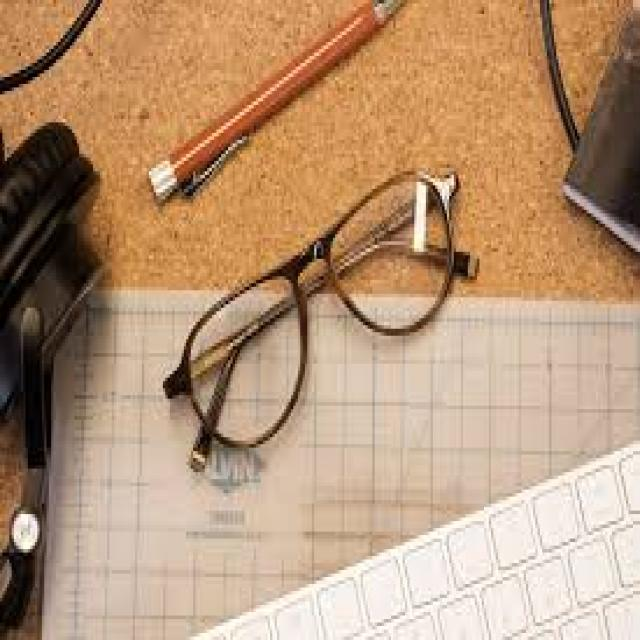glasses: (138, 151, 501, 534)
